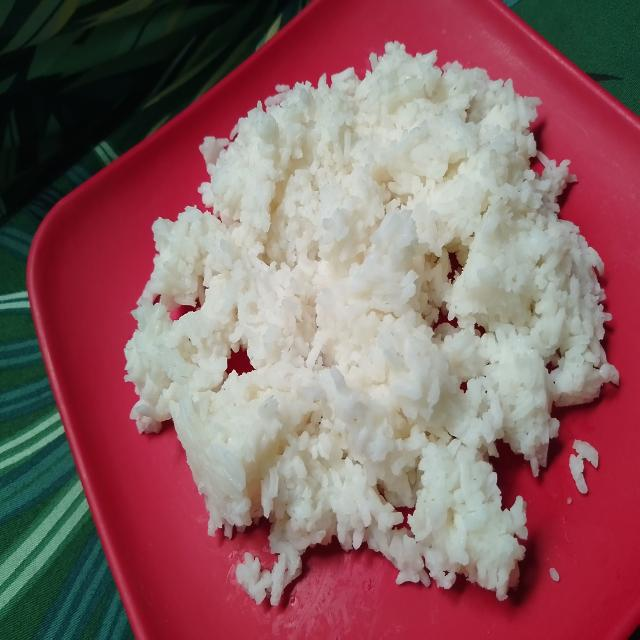Chicken -Chicken Inasal-: (133, 36, 627, 619)
